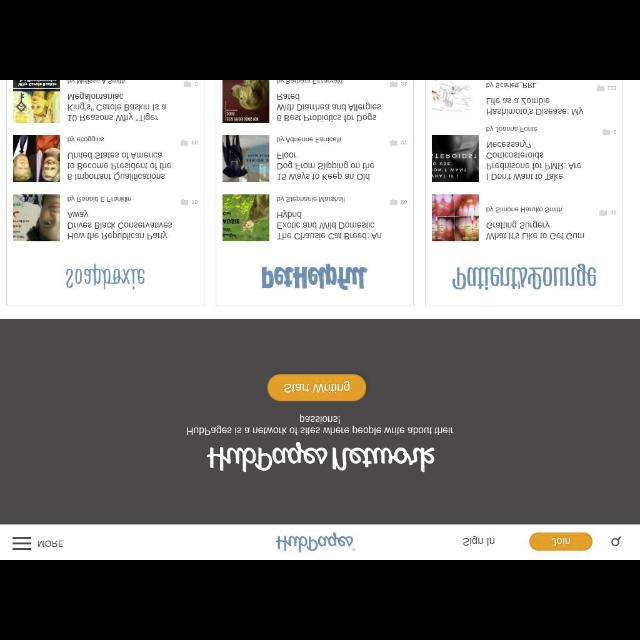icon: (12, 534, 32, 552), (610, 536, 620, 546)
image: (207, 444, 435, 471), (450, 264, 598, 290), (260, 265, 370, 289), (222, 194, 270, 242), (14, 194, 61, 242), (224, 134, 270, 182), (433, 194, 479, 242), (433, 134, 479, 182), (64, 264, 148, 290), (14, 136, 61, 182), (14, 81, 60, 123), (223, 81, 269, 123), (276, 532, 356, 554), (432, 82, 476, 111)
text: (187, 415, 453, 437), (486, 136, 582, 182), (274, 208, 382, 242), (66, 147, 172, 180), (68, 90, 168, 122), (67, 210, 173, 240), (278, 150, 377, 182), (276, 94, 382, 122), (486, 220, 584, 242), (486, 98, 584, 116), (282, 378, 351, 392), (486, 204, 562, 214), (276, 194, 348, 203), (66, 194, 132, 203), (274, 135, 342, 143), (485, 80, 537, 90), (484, 125, 540, 134), (464, 535, 496, 547), (68, 134, 106, 144), (550, 537, 572, 547), (36, 540, 66, 546), (606, 86, 618, 92), (610, 208, 618, 216), (400, 140, 410, 146), (399, 81, 408, 87), (402, 198, 408, 206), (613, 128, 617, 136)
textbutton: (268, 374, 366, 402), (529, 532, 593, 550)
toolbar: (1, 525, 639, 559)
